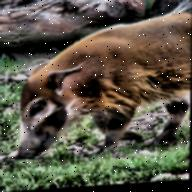boar: (11, 0, 192, 162)
